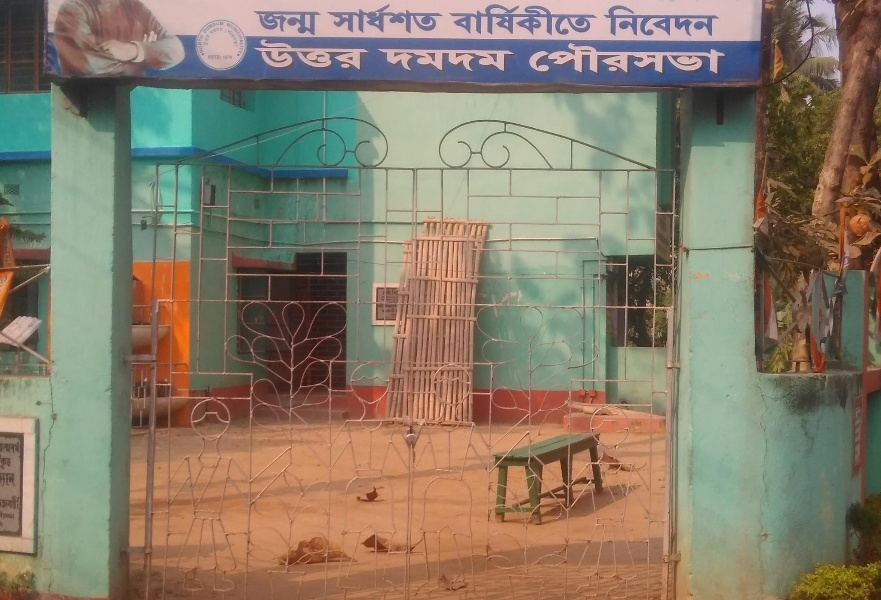text: (1, 431, 16, 535), (849, 404, 864, 466), (17, 431, 25, 535), (385, 286, 400, 321), (257, 38, 272, 72), (273, 38, 288, 72), (289, 38, 304, 72), (305, 38, 320, 72), (321, 38, 336, 72), (337, 38, 352, 72), (353, 38, 368, 72), (529, 42, 544, 75), (545, 42, 560, 75), (561, 42, 576, 75), (577, 42, 592, 75), (593, 42, 608, 75), (609, 42, 624, 75), (625, 42, 640, 75), (641, 42, 656, 75), (657, 42, 672, 75), (673, 42, 688, 75), (689, 42, 704, 75), (705, 42, 720, 75), (609, 5, 624, 37), (625, 5, 640, 37), (641, 5, 656, 37), (657, 5, 672, 37), (673, 5, 688, 37), (689, 5, 704, 37), (465, 4, 480, 36), (481, 4, 496, 36), (497, 4, 512, 36), (513, 4, 528, 36), (529, 4, 544, 36), (545, 4, 560, 36), (561, 4, 576, 36), (577, 4, 592, 36), (337, 4, 352, 34), (353, 4, 368, 34), (369, 4, 384, 34), (385, 4, 400, 34), (401, 4, 416, 34), (417, 4, 432, 34), (705, 5, 719, 37), (450, 4, 464, 36), (241, 21, 253, 57), (373, 286, 384, 321), (257, 11, 272, 36), (273, 11, 288, 36), (289, 11, 304, 36), (842, 404, 848, 466), (305, 11, 319, 36), (385, 50, 400, 72), (401, 50, 416, 72), (417, 50, 432, 72), (433, 50, 448, 72), (449, 50, 464, 72), (465, 50, 480, 72), (481, 50, 496, 72), (497, 50, 512, 72), (225, 29, 240, 47), (209, 18, 224, 35), (433, 4, 441, 34), (198, 35, 208, 58), (329, 4, 336, 34), (721, 42, 726, 75), (593, 4, 598, 36), (199, 18, 208, 35), (379, 50, 384, 72), (237, 21, 240, 57), (209, 27, 224, 34), (401, 286, 404, 321), (253, 38, 256, 72), (605, 5, 608, 37), (865, 404, 866, 466), (209, 56, 224, 59), (513, 50, 515, 72), (369, 38, 370, 72), (206, 34, 208, 47), (209, 34, 211, 47), (255, 11, 256, 36), (225, 56, 233, 59), (225, 18, 226, 35)
